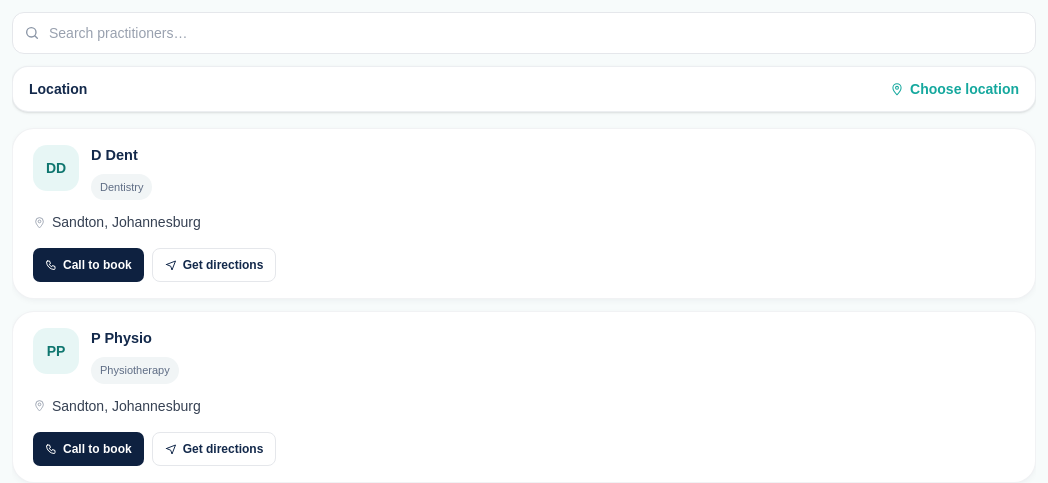
Test case: ExploreView — results view when URL params are present › the sheet search box still live-filters the list as you type
In the search field with placeholder "Search practitioners…": (524, 33) [12,12,1036,54], type "Physio"
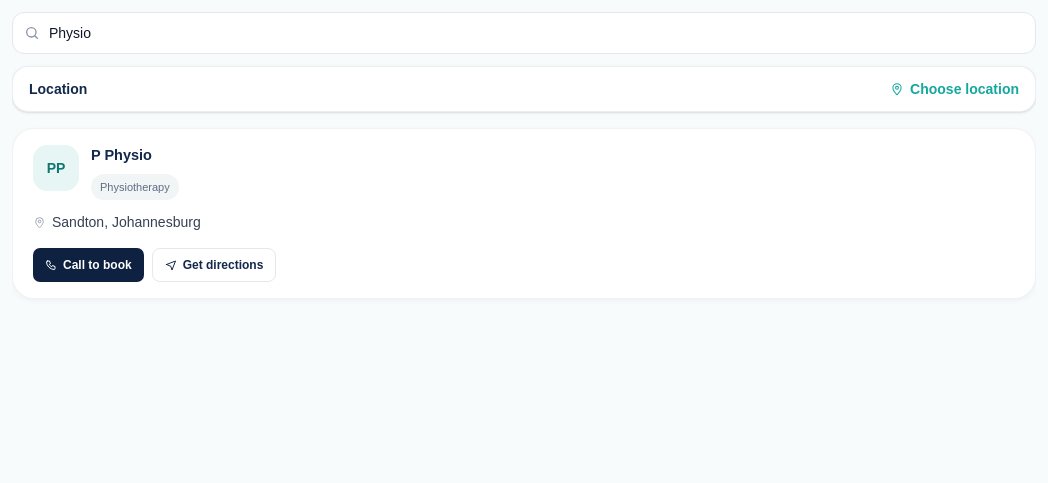
expect the text "P Physio" is shown: met, box [91,147,152,163]
expect the text "D Dent" is gone: met
